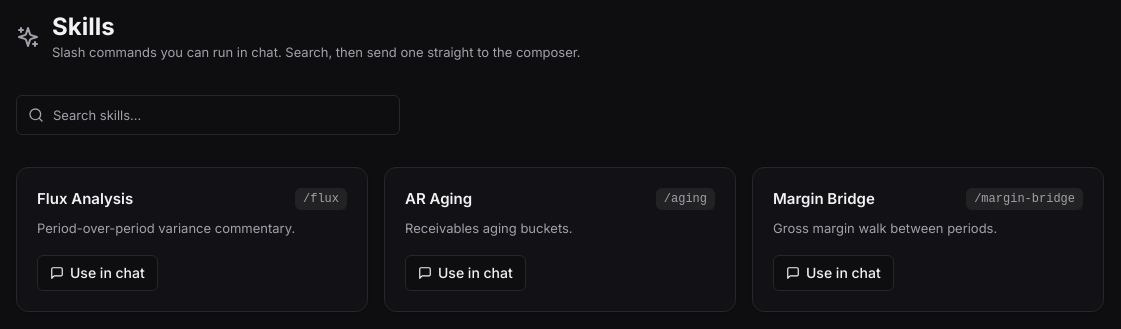
Test case: Skills page › filters by name, case-insensitively
Type "FLUX" into the field with placeholder "Search skills..." at (208, 114), box x1=16 y1=94 x2=400 y2=134
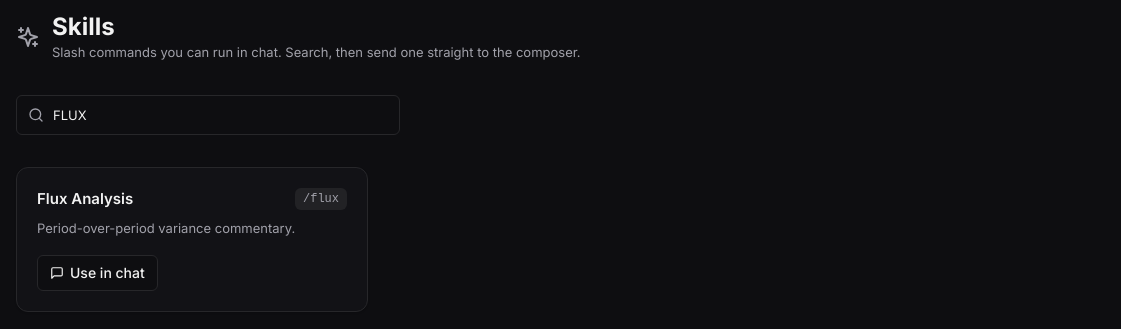
Expected: the heading "Flux Analysis" is shown, x1=37 y1=188 x2=133 y2=210
Expected: the heading "AR Aging" is gone
Expected: the heading "Margin Bridge" is gone
